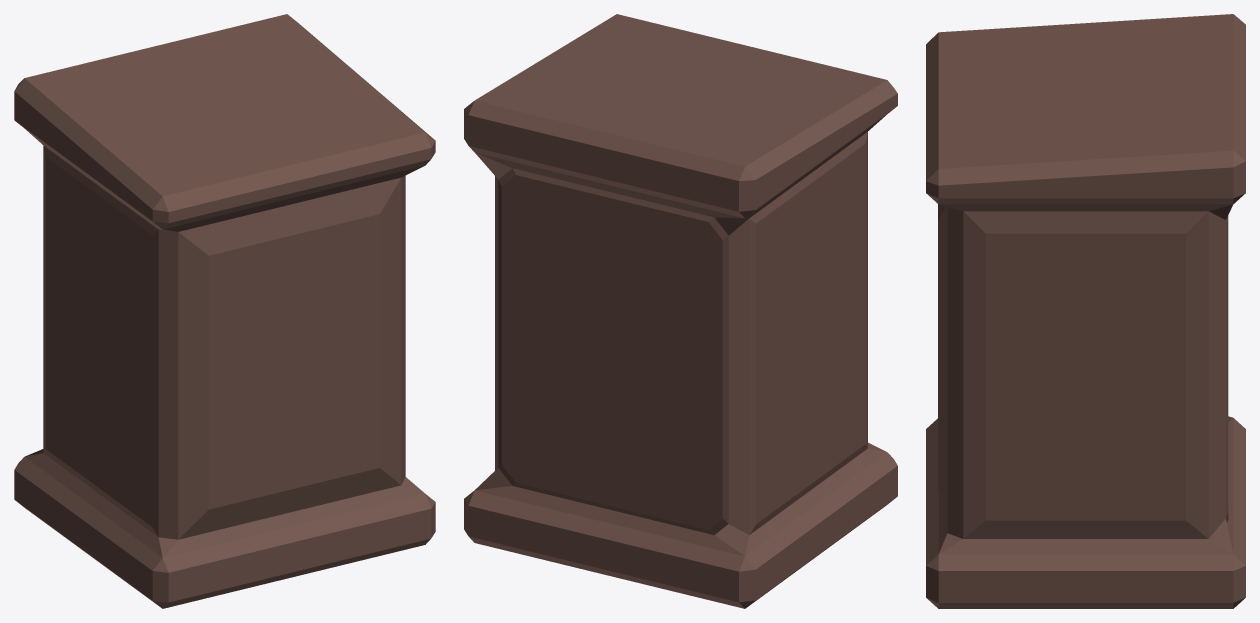
Rendered from Pedastal.fbx.
3 renders of one model, left to right at view 1: azimuth 30°, elevation 25°; view 2: azimuth 150°, elevation 25°; view 3: azimuth 270°, elevation 25°, orthographic. The views are drawn at different scales.
Visible parts, largest first — view 1: Pedastal; view 2: Pedastal; view 3: Pedastal.
Part boxes in pixels (x1,y1,x2,y2): Pedastal: [14, 14, 435, 608]; Pedastal: [464, 14, 897, 608]; Pedastal: [926, 14, 1245, 608].
Size of the model in its own units: 97.76 by 142 by 89.72.
